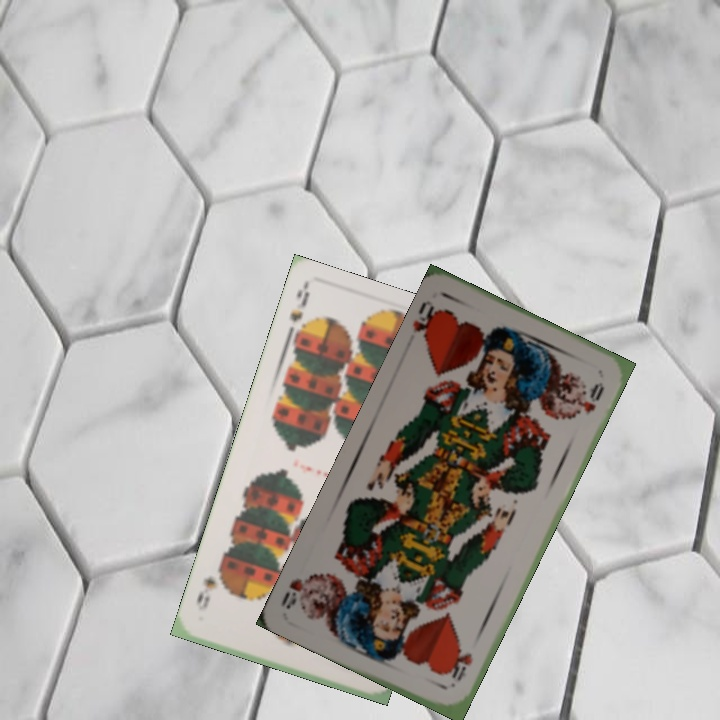HO: (409, 296, 446, 350), (447, 644, 476, 684)
S9: (283, 283, 313, 341)
